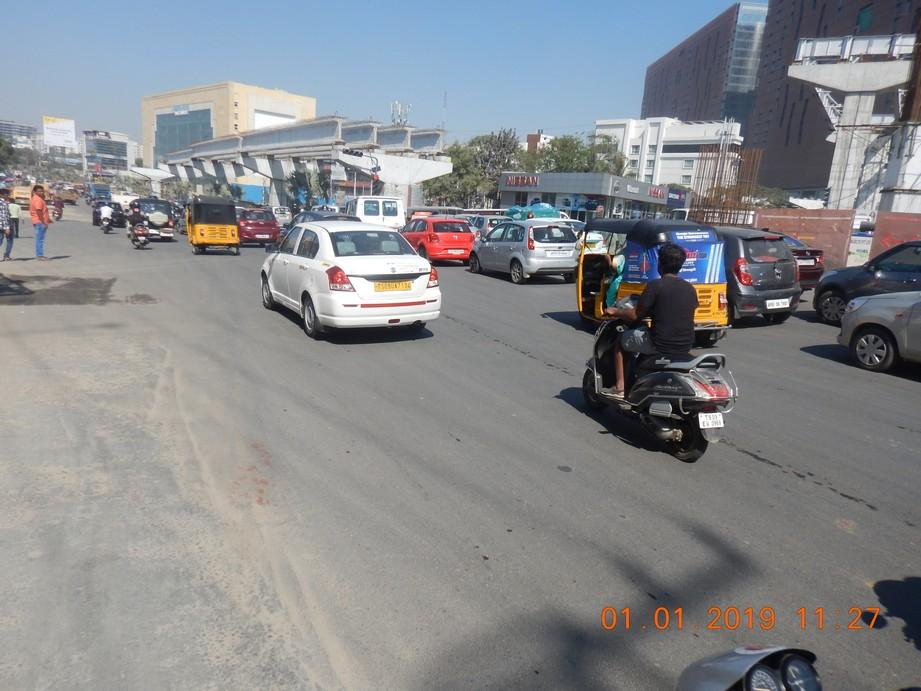plate: (697, 409, 727, 430)
